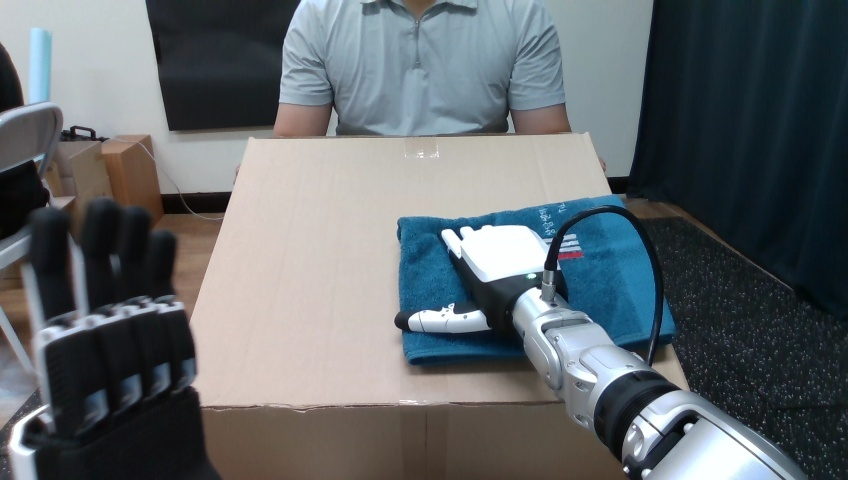left robot hand: (395, 205, 804, 479), (557, 212, 655, 362)
